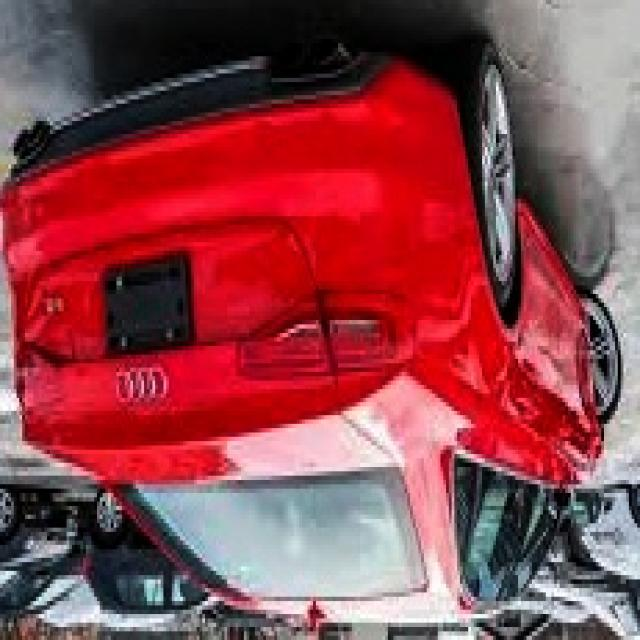red: (17, 53, 624, 623)
